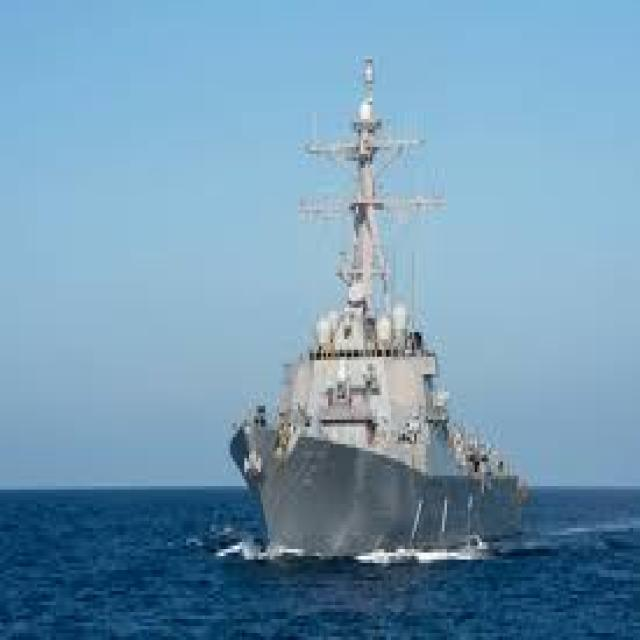navalvessels: (231, 58, 536, 551)
